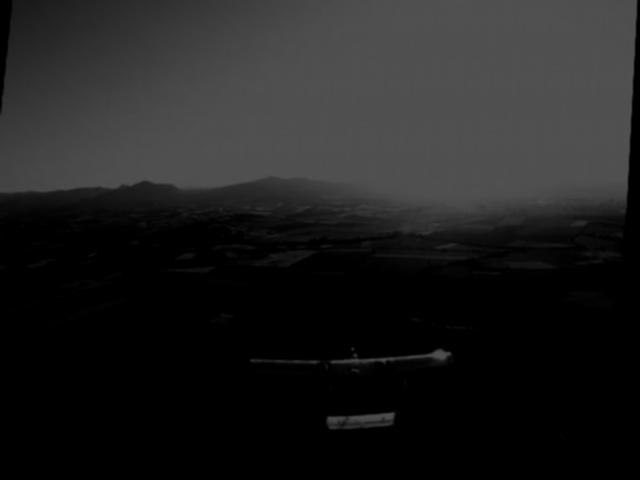hedef: (234, 330, 471, 457)
